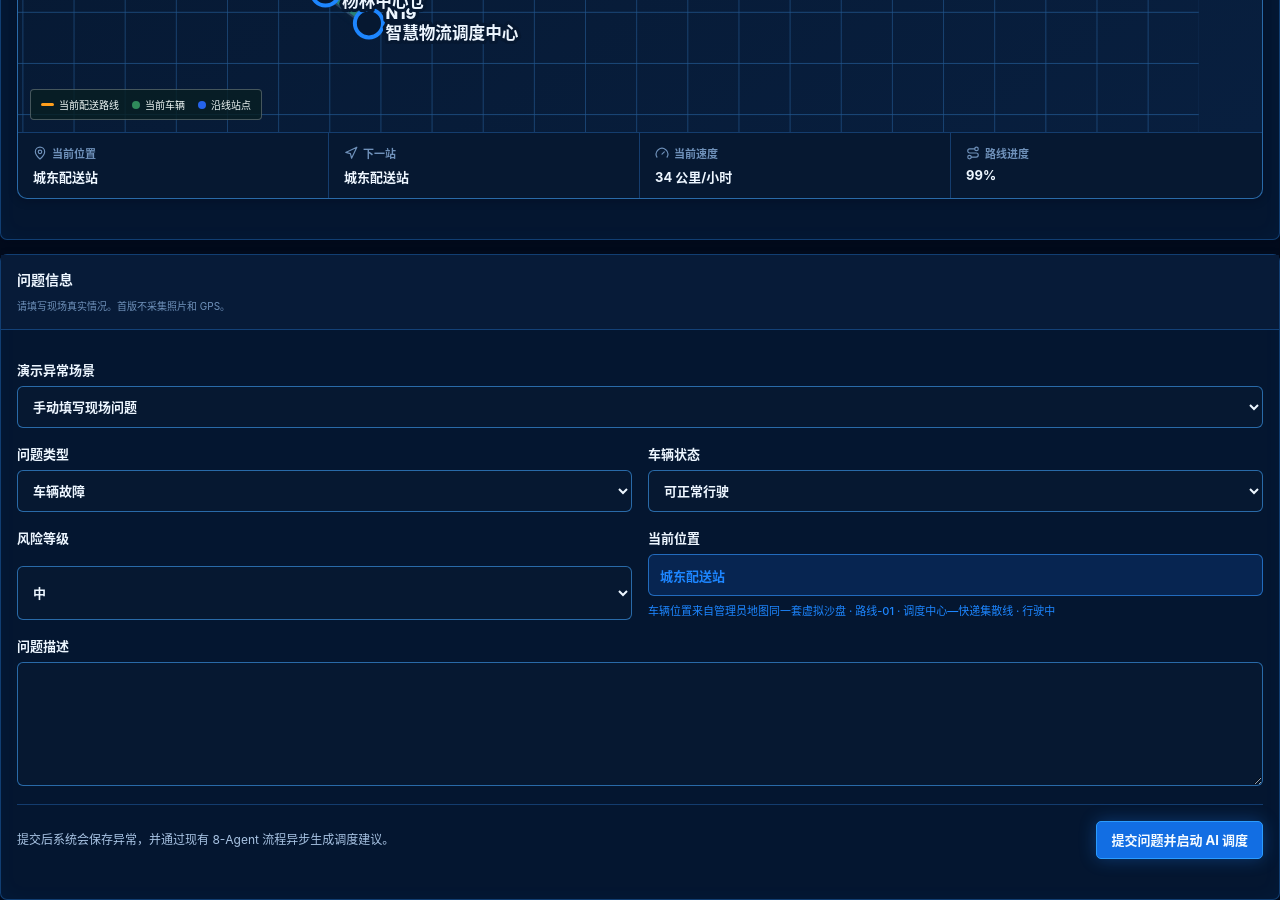
Test: report issue page › keeps manual problem type and vehicle status consistent
(page scrolled)
Select "车辆故障" in the dropdown labelled "问题类型": (324, 491) [17,470,632,512]
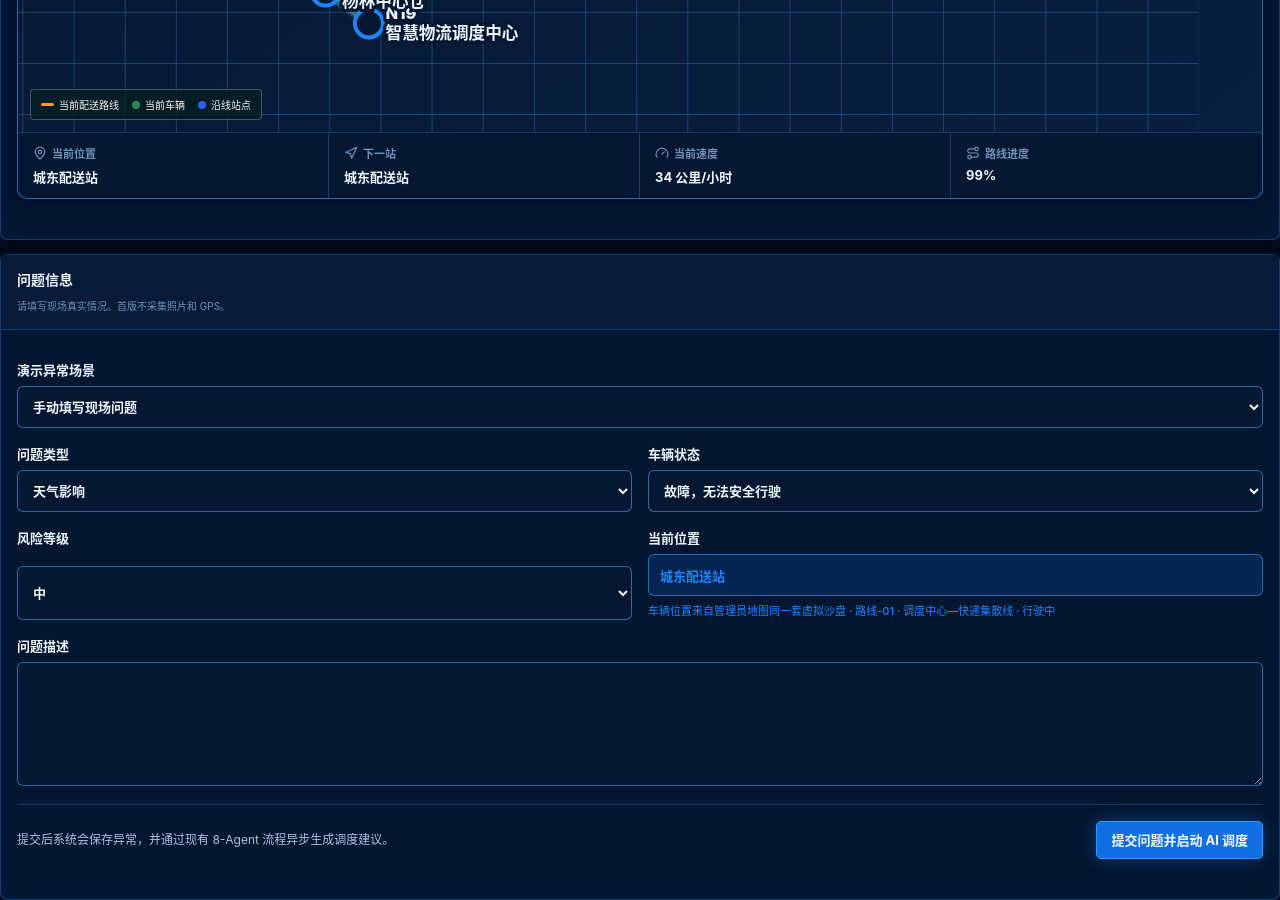
Expected: the dropdown labelled "车辆状态" shows "故障，无法安全行驶", [648,470,1263,512]
Select "天气影响" in the dropdown labelled "问题类型": (324, 491) [17,470,632,512]
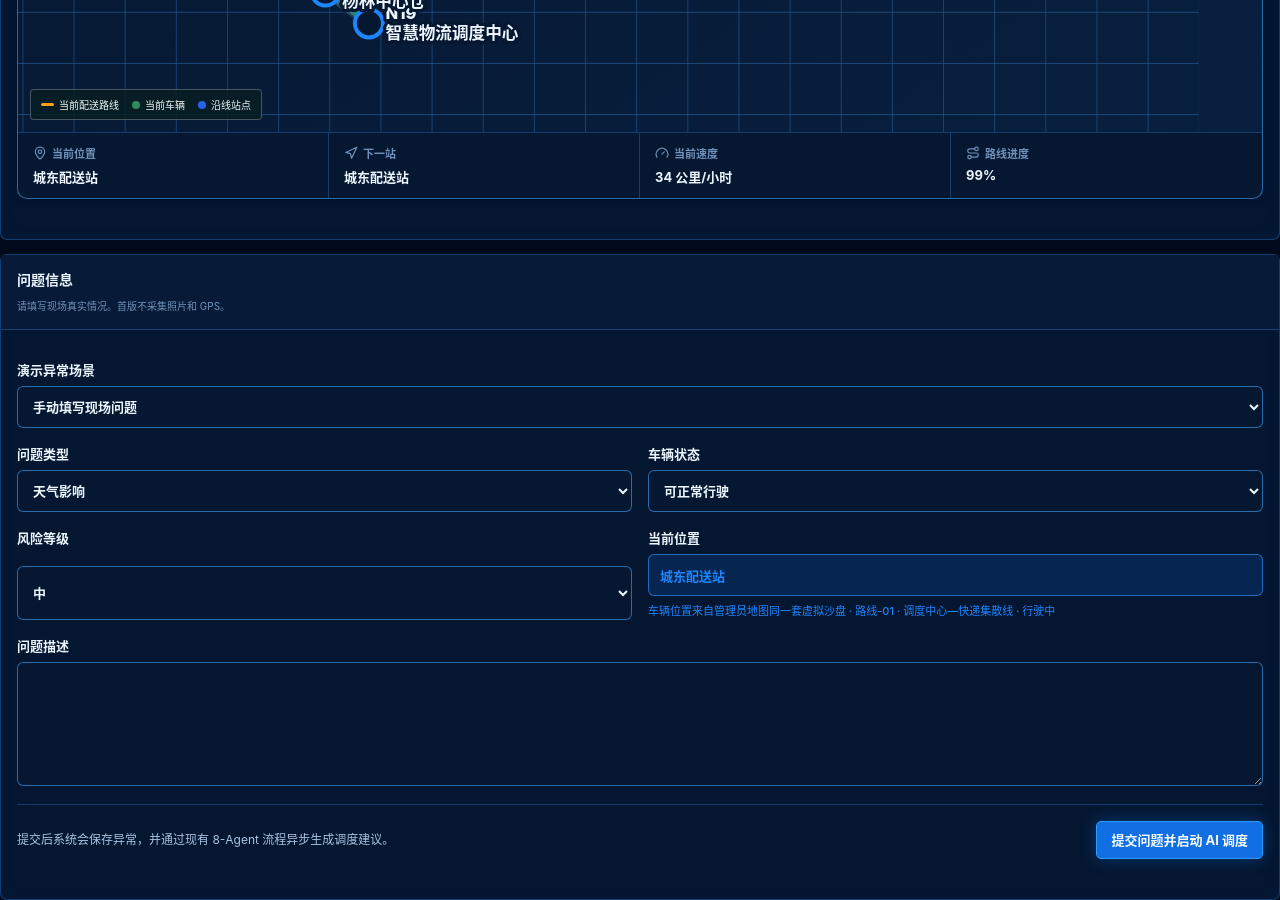
Expected: the dropdown labelled "车辆状态" shows "可正常行驶", [648,470,1263,512]
